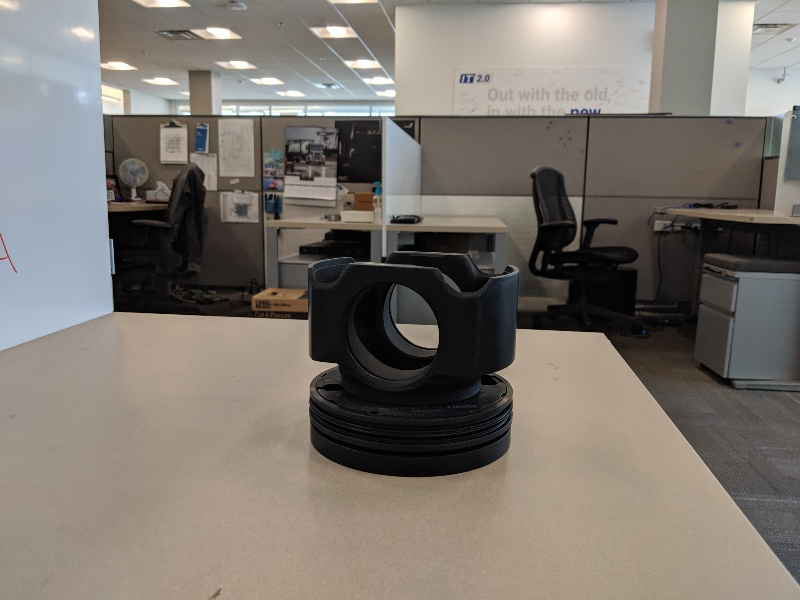piston: (295, 245, 527, 484)
